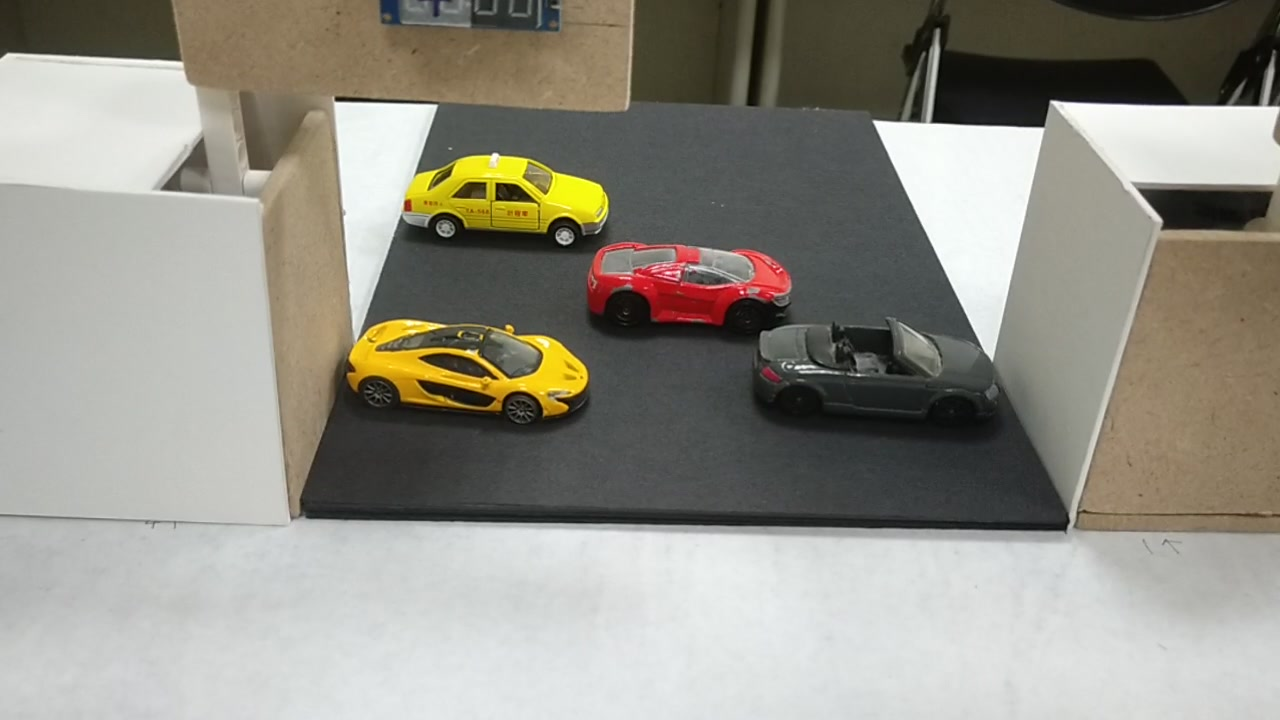car: (344, 313, 586, 423), (758, 328, 996, 423), (589, 248, 795, 328), (411, 161, 607, 236)
